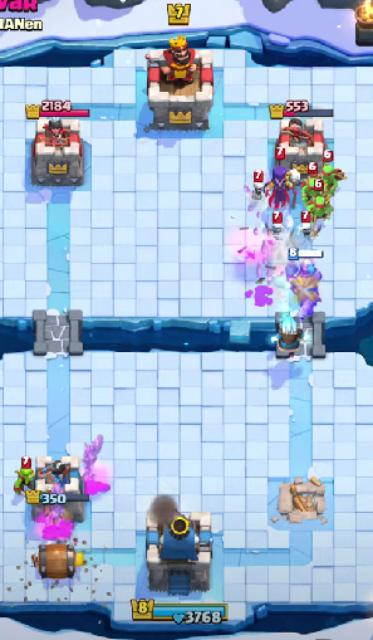ally_melee: (287, 248, 327, 318)
enemy_melee: (13, 466, 37, 495), (299, 221, 323, 242), (265, 220, 284, 242), (251, 182, 267, 200)
enemy_ranged: (268, 311, 313, 355), (264, 167, 301, 210), (322, 163, 348, 196), (301, 174, 325, 206), (309, 195, 334, 223)
